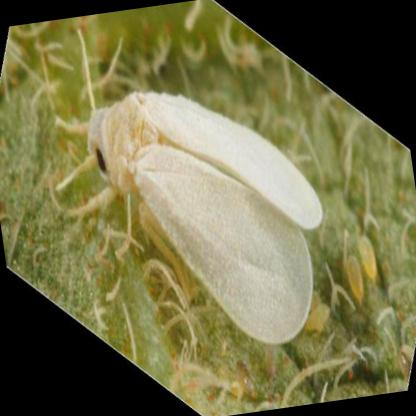whitefly: (87, 90, 323, 346)
